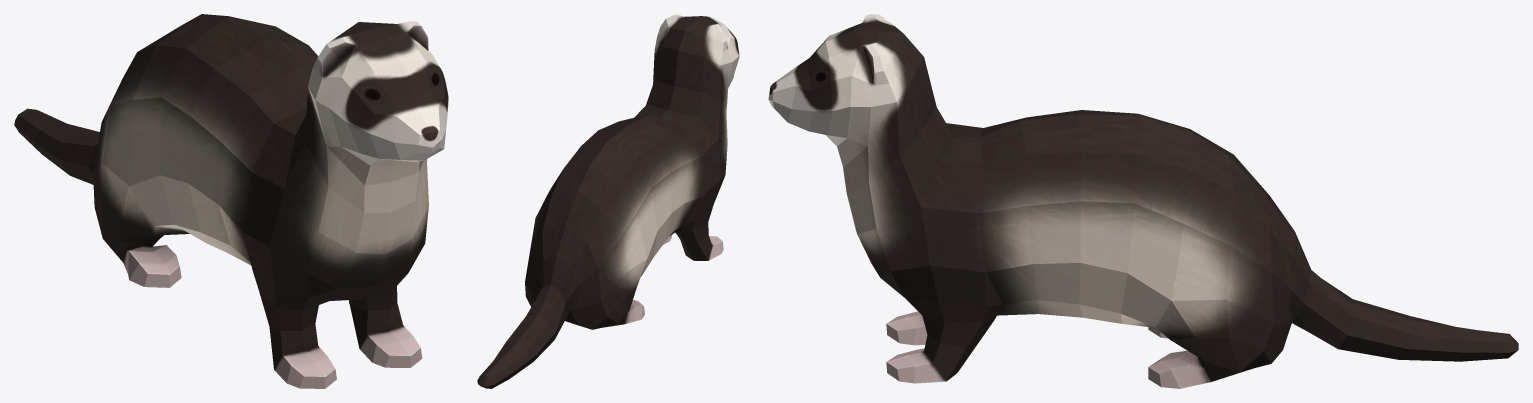
File: 4I1SBFHWuSo.glb
The picture shows the model from 3 angles, left to right: view 1: azimuth 30°, elevation 25°; view 2: azimuth 150°, elevation 25°; view 3: azimuth 270°, elevation 25°; orthographic projection. The views are drawn at different scales.
Visible parts, largest first — view 1: Ferret_Mesh; view 2: Ferret_Mesh; view 3: Ferret_Mesh.
Part boxes in pixels (left/top/right/bottom): Ferret_Mesh: left=14, top=14, right=448, bottom=388; Ferret_Mesh: left=477, top=14, right=739, bottom=388; Ferret_Mesh: left=768, top=14, right=1518, bottom=388.
Size of the model in its own units: 0.486 by 0.9999 by 2.07.
Materials: 1 (1 with a texture image).
